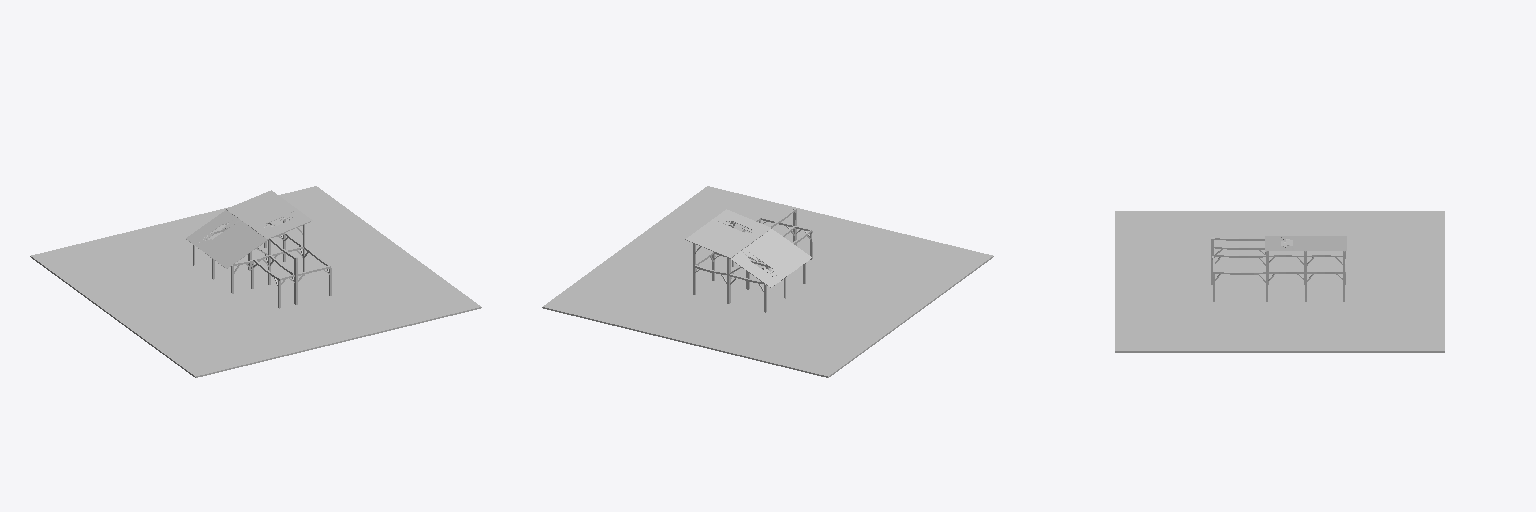
The model's file is shed.sdkmesh.obj.
3 views of the same model, side by side, from view 1: azimuth 30°, elevation 25°; view 2: azimuth 150°, elevation 25°; view 3: azimuth 270°, elevation 25° (orthographic).
Size of the model in its own units: 2000 by 391 by 2000.